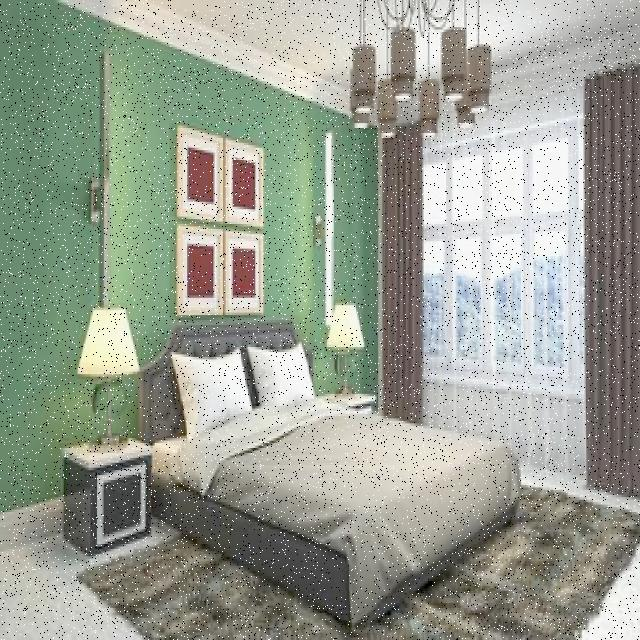bed: (147, 324, 524, 592)
